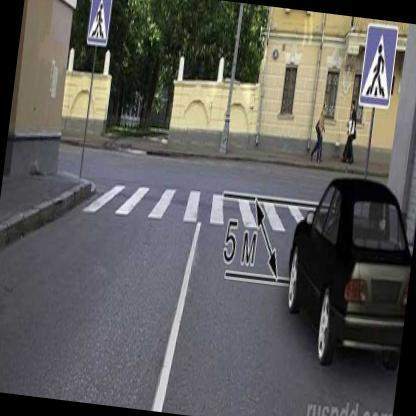road_sign: (358, 23, 398, 108), (87, 0, 113, 47)
